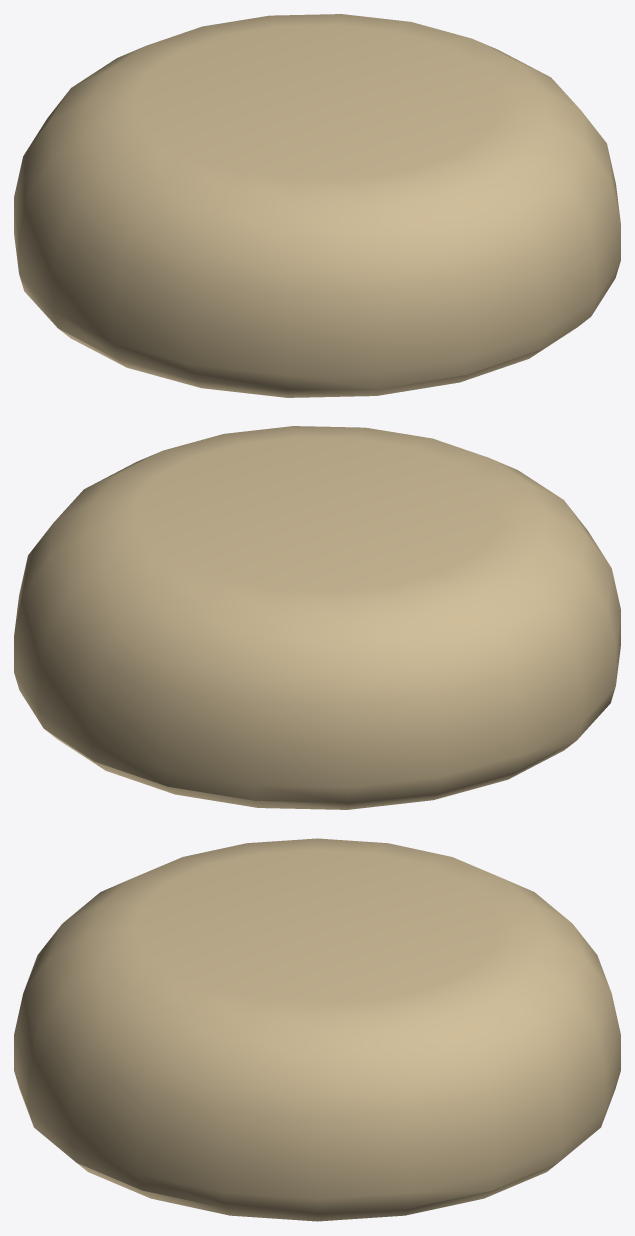
File: Scooby Snack Cookie.fbx
3 renders of one model, top to bottom at view 1: azimuth 30°, elevation 25°; view 2: azimuth 150°, elevation 25°; view 3: azimuth 270°, elevation 25°, orthographic.
Parts seen in each view (by area): view 1: Scooby_Snack; view 2: Scooby_Snack; view 3: Scooby_Snack.
Boxes of the visible parts, x1=… form: Scooby_Snack: x1=14, y1=14, x2=620, y2=397; Scooby_Snack: x1=14, y1=426, x2=620, y2=809; Scooby_Snack: x1=14, y1=838, x2=620, y2=1221.
Bounding box in the file's own units: 0.7881 × 0.2569 × 0.7881.
